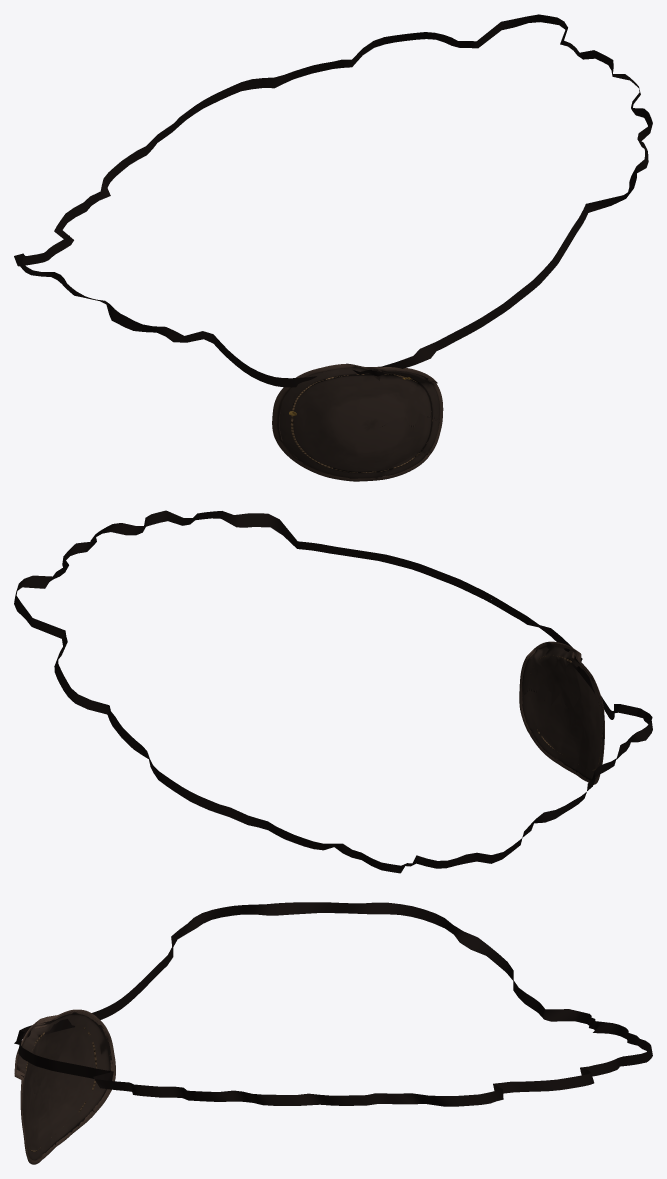
Rendered from eyes_eyepatch_male_lo.glb.
3 views of the same model, one above another, from view 1: azimuth 30°, elevation 25°; view 2: azimuth 150°, elevation 25°; view 3: azimuth 270°, elevation 25° (orthographic). The views are drawn at different scales.
Visible parts, largest first — view 1: eyes_eyepatch_lo; view 2: eyes_eyepatch_lo; view 3: eyes_eyepatch_lo.
Part boxes in pixels (x1,y1,x2,y2): eyes_eyepatch_lo: (14,14,652,481); eyes_eyepatch_lo: (14,510,652,873); eyes_eyepatch_lo: (14,902,652,1164).
Size of the model in its own units: 0.5007 by 0.2024 by 0.4542.
1 material, 1 textured.
